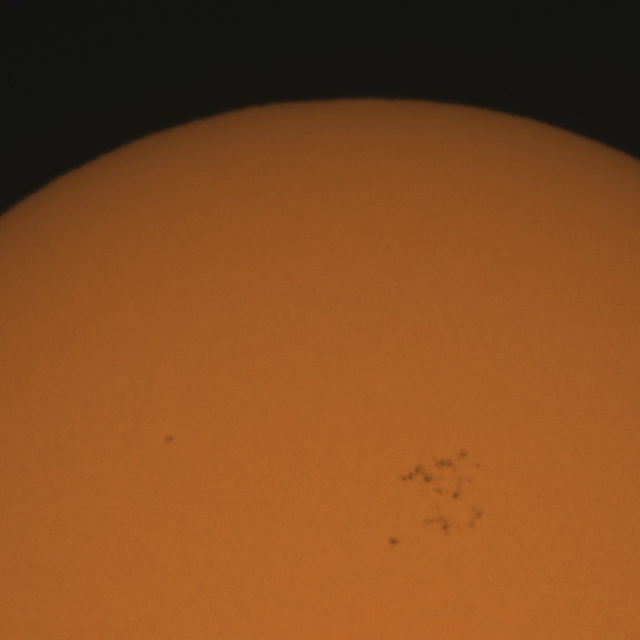sunspot: (391, 454, 471, 498), (468, 504, 484, 531), (386, 536, 400, 548), (162, 434, 175, 446), (440, 521, 450, 533)
